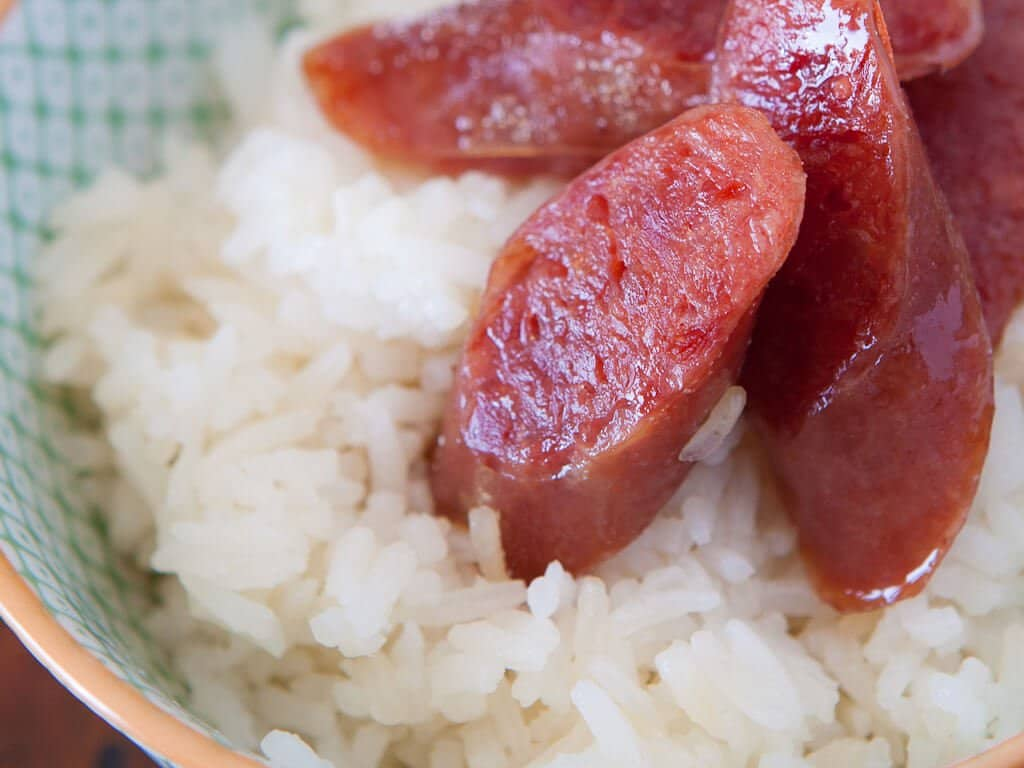chinese_sausage: (726, 37, 1000, 585), (450, 145, 760, 535), (340, 13, 689, 160), (919, 13, 1023, 330)
